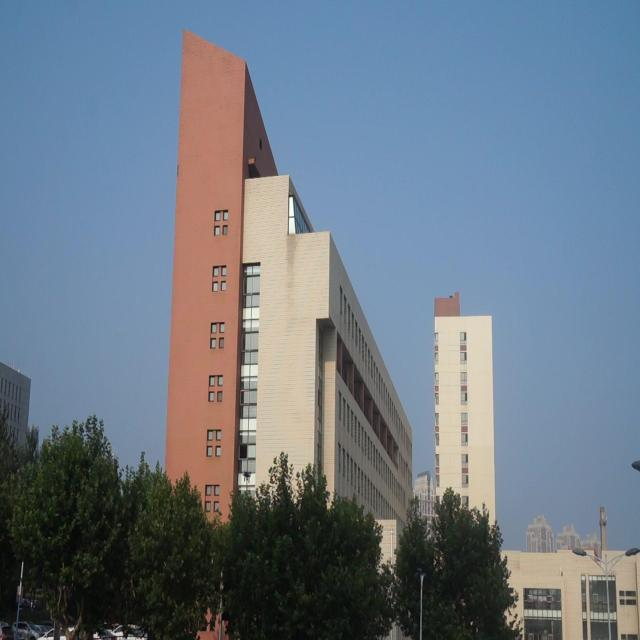drone: (240, 468, 254, 485)
